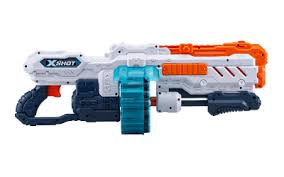Arma Falsa: (14, 39, 273, 136)
